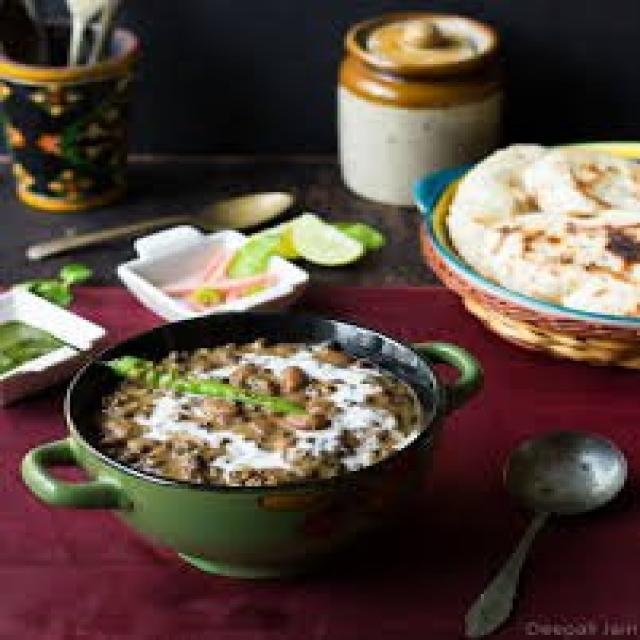chapati: (449, 146, 637, 315)
dal_makhani: (78, 337, 442, 483)
